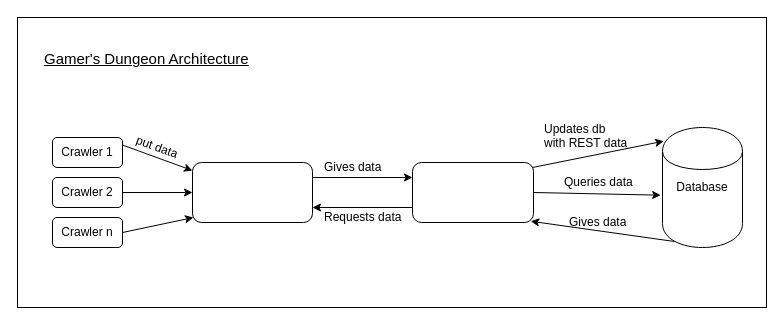
The diagram is 784 pixels wide and 325 high, and some of its shapes have lost their labels. Each missing label, with the centre of its shape:
"MVC (web interface)" belongs at point (473, 192).
"REST Service" belongs at point (252, 192).
